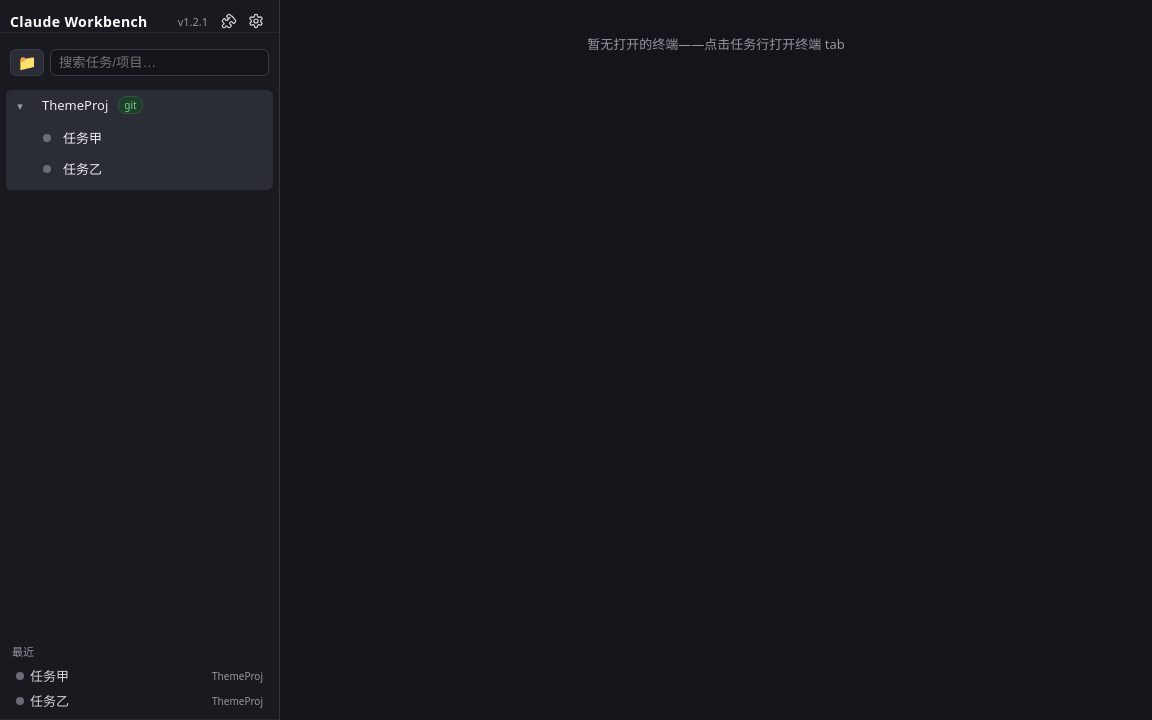
Test: A1：Escape 统一修复（document 级——焦点不在弹窗内也关闭） › Skills：Escape 关闭
This screenshot has width=1152, height=720.
Click the button named "Skills": [229, 21] box [216,10,242,32]
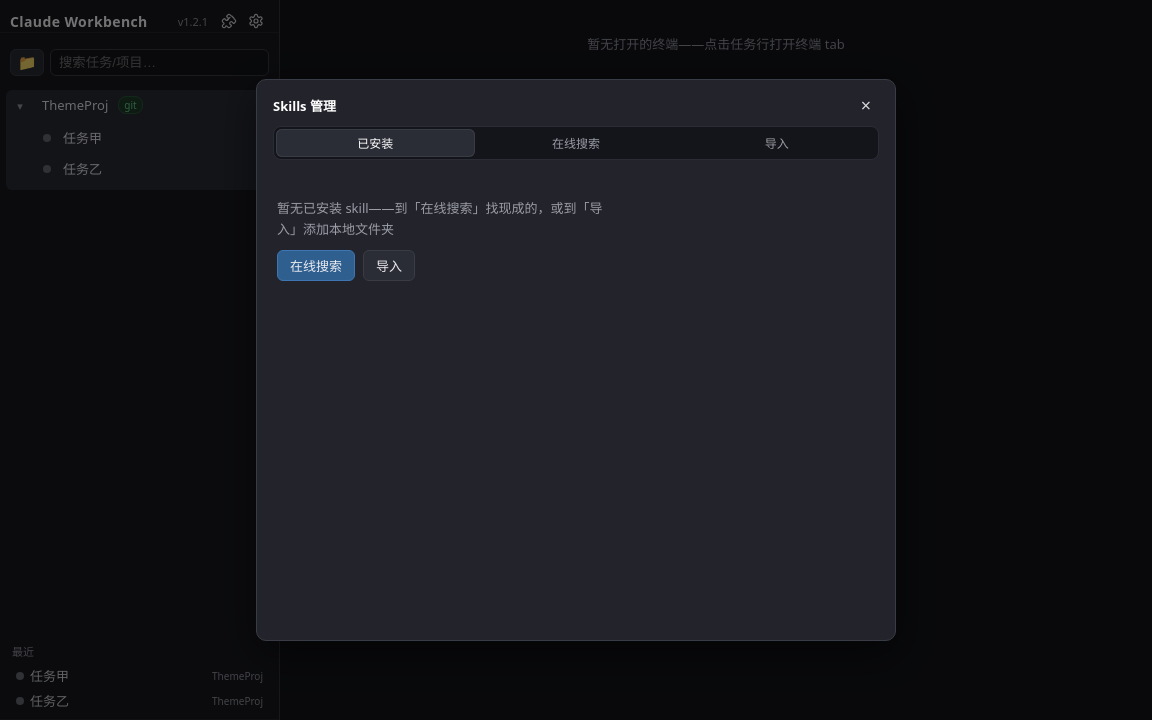
Now the dialog "Skills 管理" is shown, box [256,79,896,641]
Press Escape
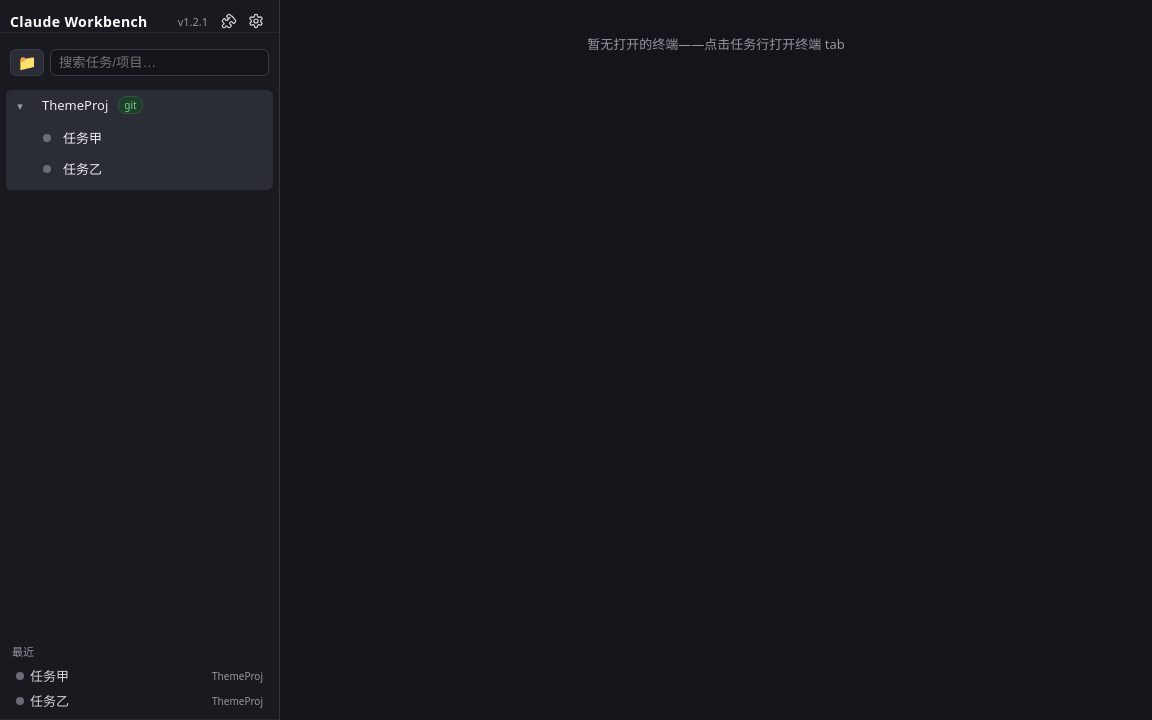
Now the text "Skills 管理" is gone
